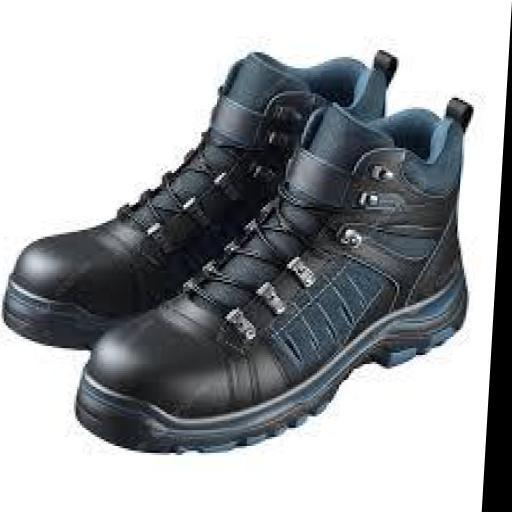safety_boots: (0, 8, 493, 464)
